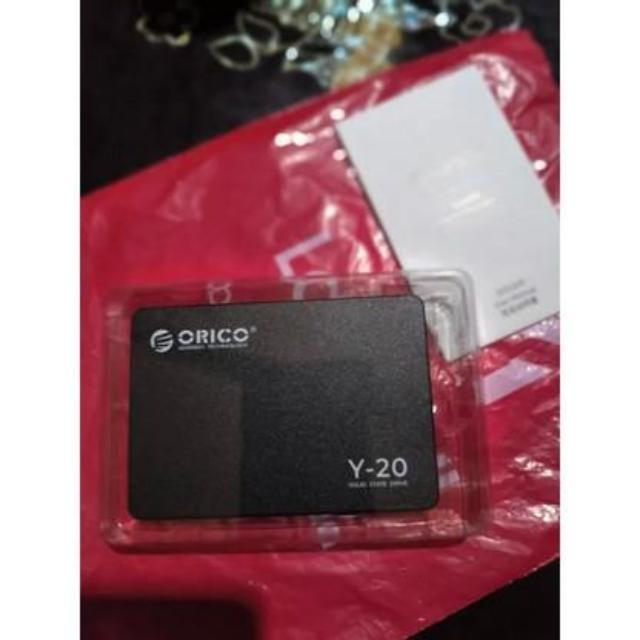DISK: (126, 298, 443, 524)
